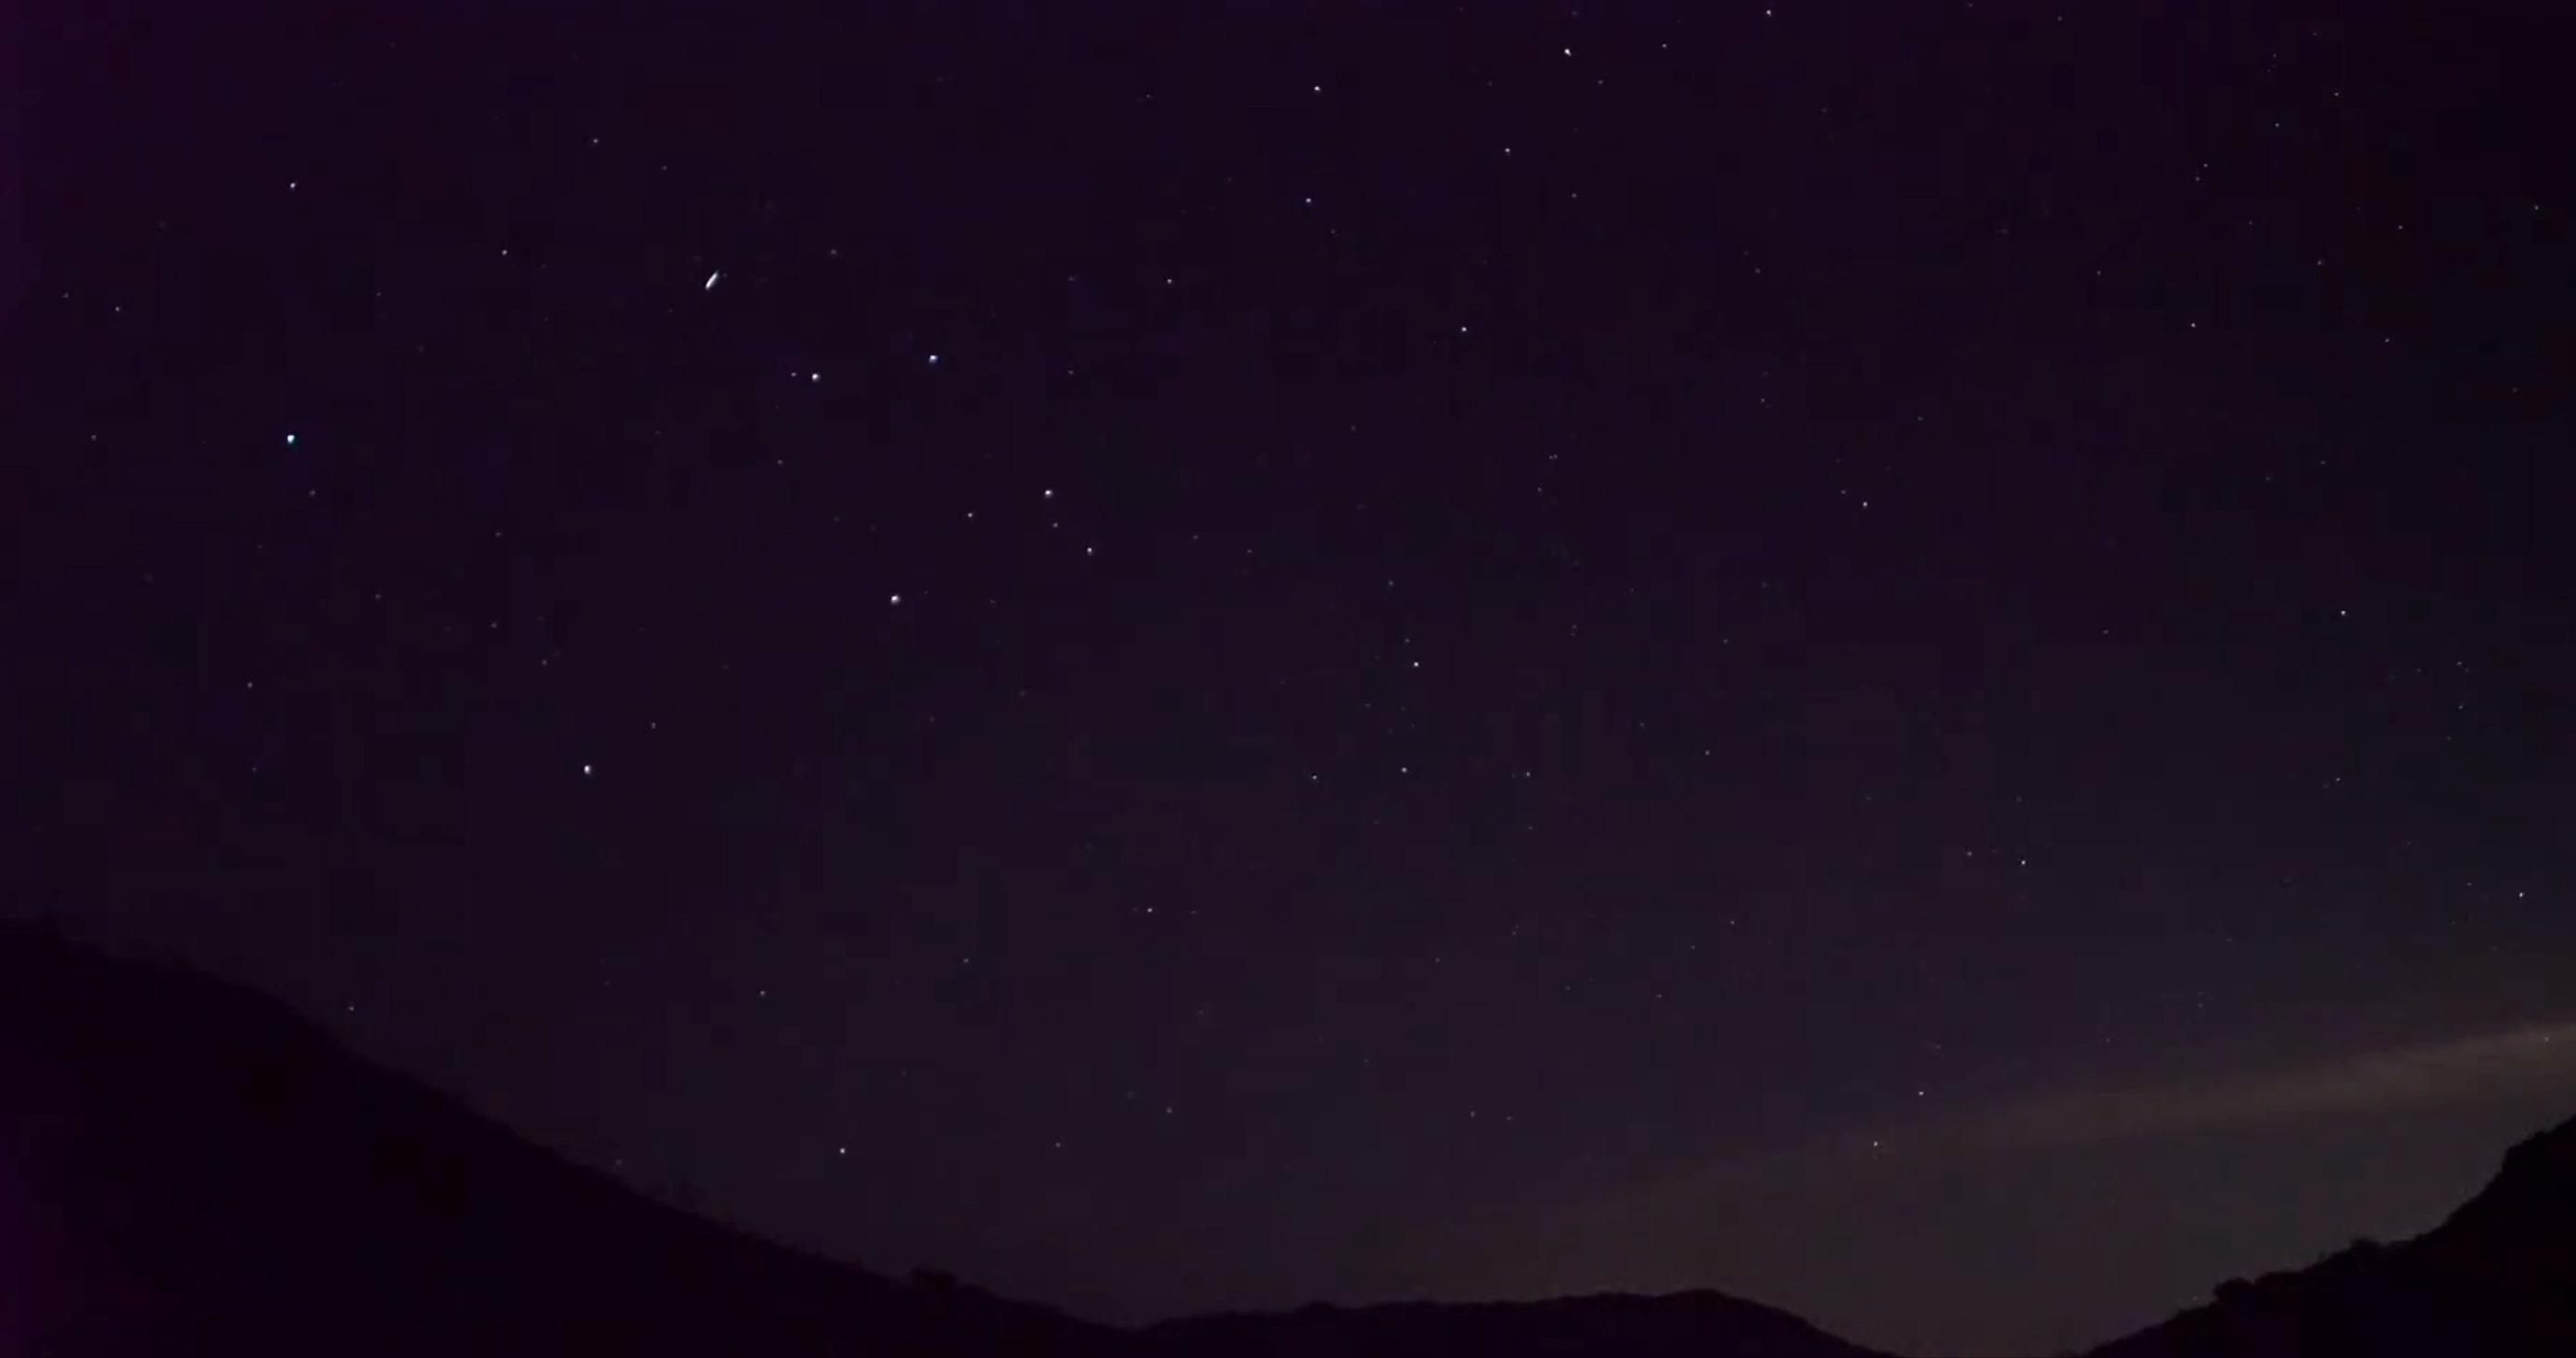meteorite: (671, 257, 760, 307)
